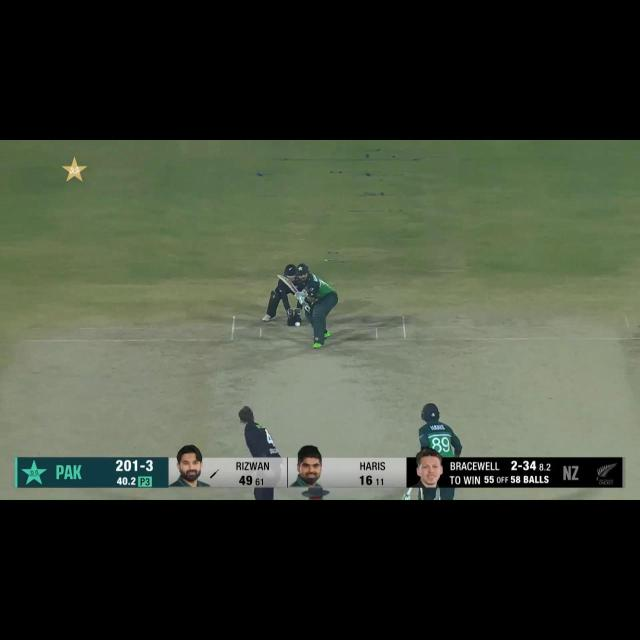bat: (273, 273, 299, 294)
toe: (406, 487, 420, 499), (274, 272, 288, 281)
